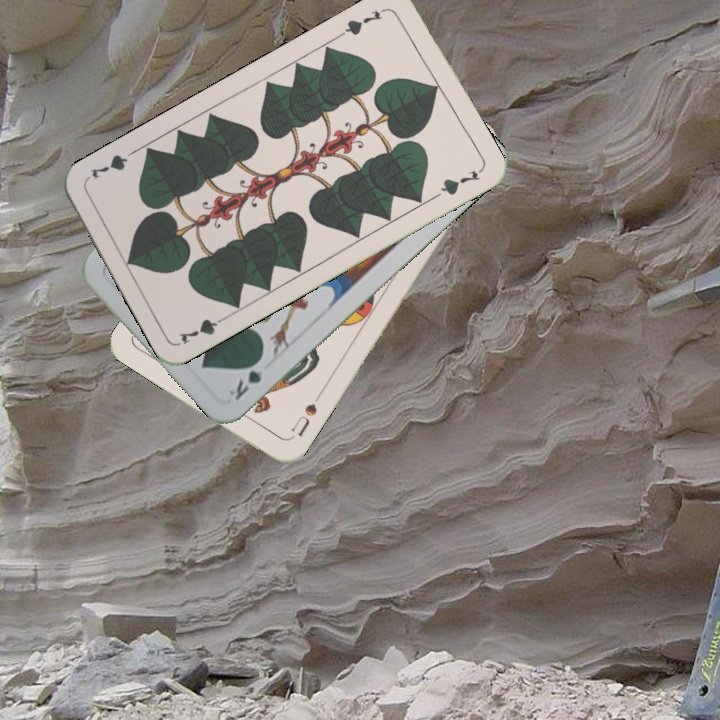G7: (174, 311, 231, 347), (336, 4, 390, 39)
GK: (224, 352, 268, 404)
SU: (285, 390, 324, 442)
